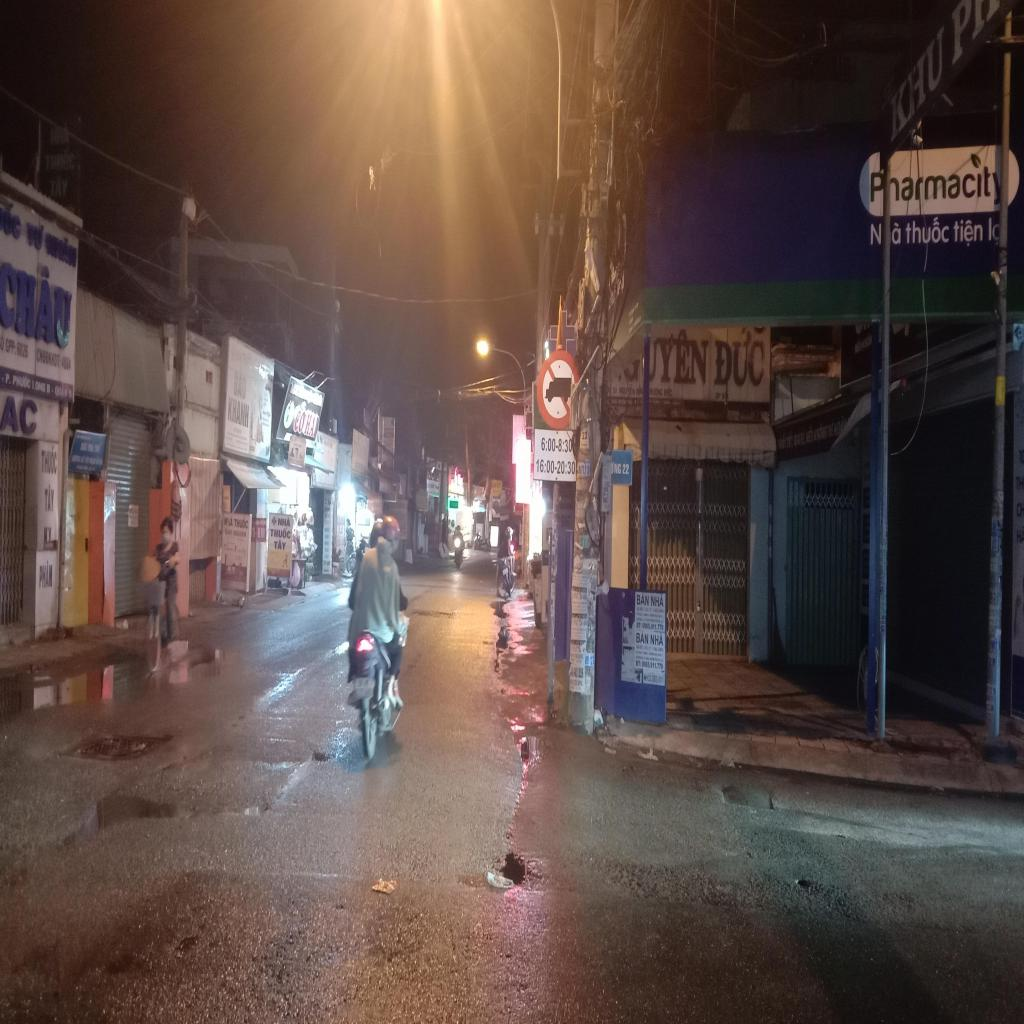cam_o_to_tai: (536, 346, 580, 429)
khac: (534, 425, 577, 478)
